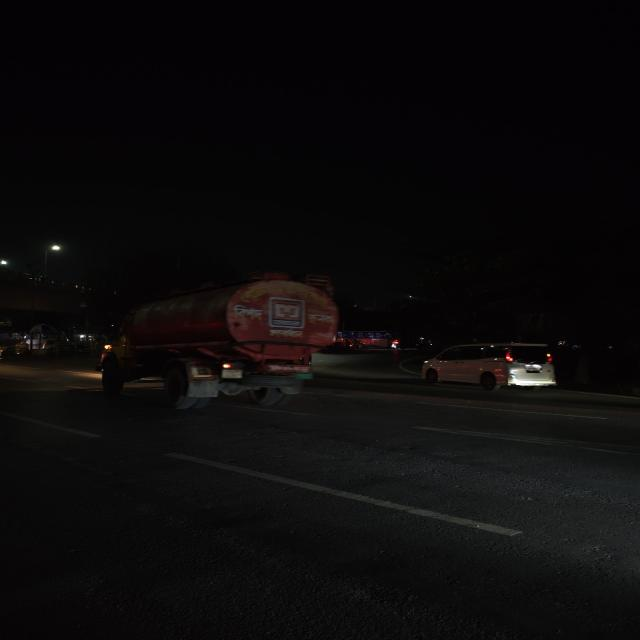car: (412, 340, 570, 396)
truck: (93, 260, 354, 421)
